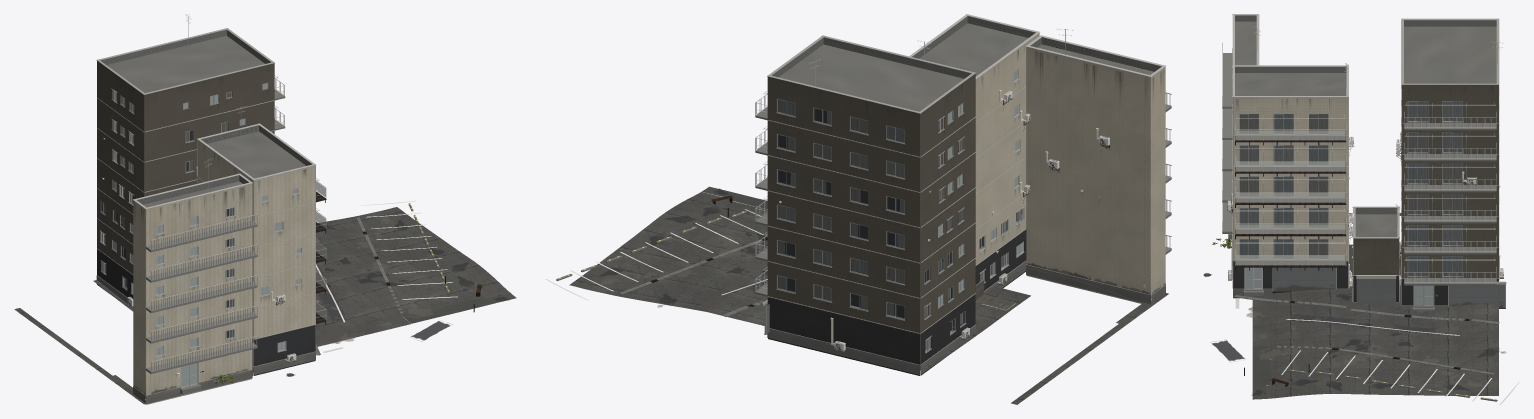
Rendered from block_D.gltf.
3 renders of one model, left to right at view 1: azimuth 30°, elevation 25°; view 2: azimuth 150°, elevation 25°; view 3: azimuth 270°, elevation 25°, orthographic. The views are drawn at different scales.
Visible parts, largest first — view 1: D03_condo_seven_wing, D02_condo_six_core, D_ground, D01_condo_six_south; view 2: D03_condo_seven_wing, D02_condo_six_core, D_ground, D01_condo_six_south, D_walls; view 3: D03_condo_seven_wing, D01_condo_six_south, D_ground, D04_condo_seven_link, D02_condo_six_core, D_walls.
Part boxes in pixels (<box>): D03_condo_seven_wing: <box>96,14,285,307</box>; D02_condo_six_core: <box>133,158,257,404</box>; D_ground: <box>14,200,516,404</box>; D01_condo_six_south: <box>197,106,326,375</box>; D03_condo_seven_wing: <box>755,35,975,375</box>; D02_condo_six_core: <box>1025,29,1171,304</box>; D_ground: <box>545,186,1168,404</box>; D01_condo_six_south: <box>909,14,1040,303</box>; D_walls: <box>556,195,984,302</box>; D03_condo_seven_wing: <box>1396,18,1506,310</box>; D01_condo_six_south: <box>1227,63,1354,298</box>; D_ground: <box>1203,213,1519,404</box>; D04_condo_seven_link: <box>1349,204,1401,305</box>; D02_condo_six_core: <box>1222,14,1260,256</box>; D_walls: <box>1244,364,1497,401</box>.
Size of the model in its own units: 41.32 by 24.77 by 27.63.
25 materials, 16 textured.
